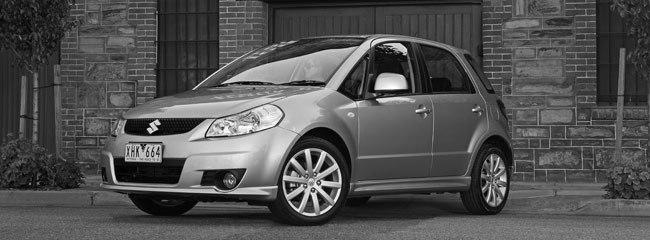car: (97, 32, 518, 228)
